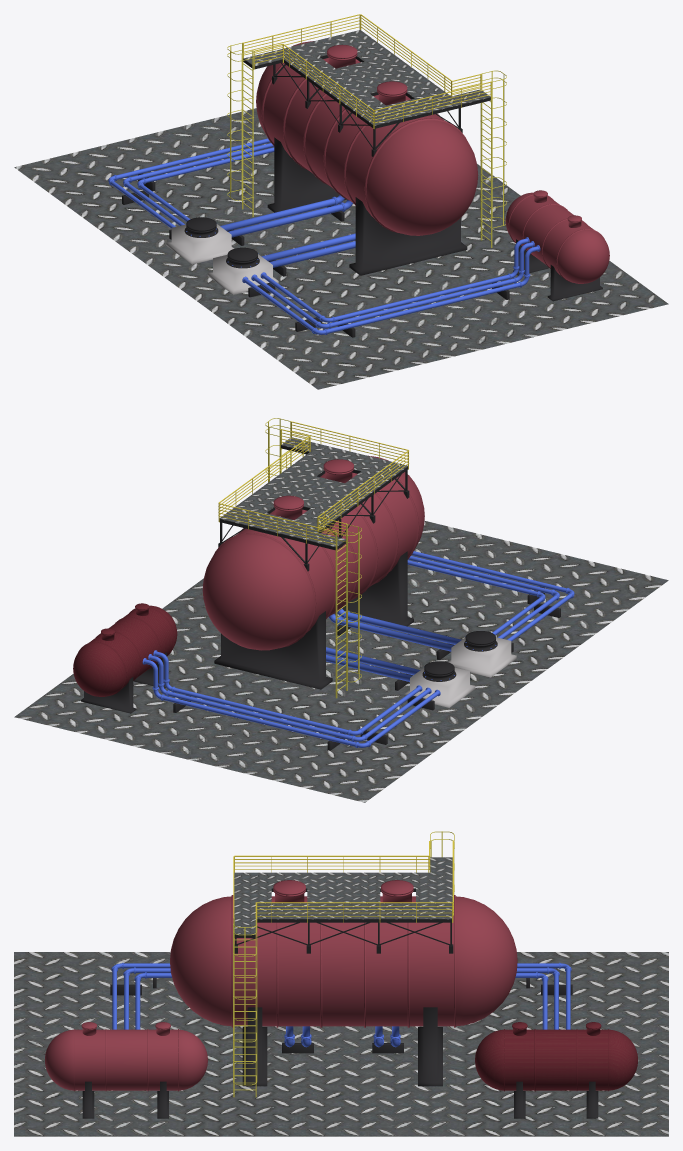
File: tank-farm.glb
The picture shows the model from 3 angles, top to bottom: view 1: azimuth 30°, elevation 25°; view 2: azimuth 150°, elevation 25°; view 3: azimuth 270°, elevation 25°; orthographic projection. The views are drawn at different scales.
Visible parts, largest first — view 1: IS06_OBJ_05, IS06_OBJ_06, IS06_OBJ_04, IS06_OBJ_01, IS06_OBJ_06.001, IS06_OBJ_06.002, IS06_OBJ_03, IS06_OBJ_02, IS06_OBJ_04.003, IS06_OBJ_01.001, IS06_OBJ_04.001, IS06_OBJ_04.002; view 2: IS06_OBJ_05, IS06_OBJ_06, IS06_OBJ_04, IS06_OBJ_01, IS06_OBJ_06.001, IS06_OBJ_06.003, IS06_OBJ_03, IS06_OBJ_04.003, IS06_OBJ_02, IS06_OBJ_01.001, IS06_OBJ_04.002, IS06_OBJ_04.001; view 3: IS06_OBJ_05, IS06_OBJ_06, IS06_OBJ_01, IS06_OBJ_06.003, IS06_OBJ_06.002, IS06_OBJ_06.001, IS06_OBJ_04, IS06_OBJ_03, IS06_OBJ_02, IS06_OBJ_01.001, IS06_OBJ_04.001.
Boxes of the visible parts, x1,y1,x2,y2 form: IS06_OBJ_05: (14,108,668,389); IS06_OBJ_06: (256,41,478,235); IS06_OBJ_04: (108,138,540,334); IS06_OBJ_01: (243,30,490,125); IS06_OBJ_06.001: (267,137,602,301); IS06_OBJ_06.002: (505,190,609,283); IS06_OBJ_03: (243,14,491,128); IS06_OBJ_02: (227,42,506,247); IS06_OBJ_04.003: (166,224,278,294); IS06_OBJ_01.001: (243,55,490,156); IS06_OBJ_04.001: (122,173,509,337); IS06_OBJ_04.002: (184,217,259,268); IS06_OBJ_05: (14,520,668,802); IS06_OBJ_06: (202,455,424,650); IS06_OBJ_04: (142,551,574,747); IS06_OBJ_01: (219,437,407,547); IS06_OBJ_06.001: (81,551,413,713); IS06_OBJ_06.003: (73,603,177,696); IS06_OBJ_03: (218,421,409,544); IS06_OBJ_04.003: (404,637,516,707); IS06_OBJ_02: (265,418,361,698); IS06_OBJ_01.001: (218,445,409,571); IS06_OBJ_04.002: (422,631,497,681); IS06_OBJ_04.001: (173,586,560,750); IS06_OBJ_05: (14,952,668,1136); IS06_OBJ_06: (170,880,517,1027); IS06_OBJ_01: (234,857,452,934); IS06_OBJ_06.003: (475,1022,637,1091); IS06_OBJ_06.002: (45,1022,207,1091); IS06_OBJ_06.001: (82,1007,598,1118); IS06_OBJ_04: (111,962,571,1047); IS06_OBJ_03: (233,841,453,922); IS06_OBJ_02: (233,831,454,1097); IS06_OBJ_01.001: (234,888,453,953); IS06_OBJ_04.001: (110,978,572,1053).
Size of the model in its own units: 128 by 57.75 by 191.
8 materials, 2 textured.
